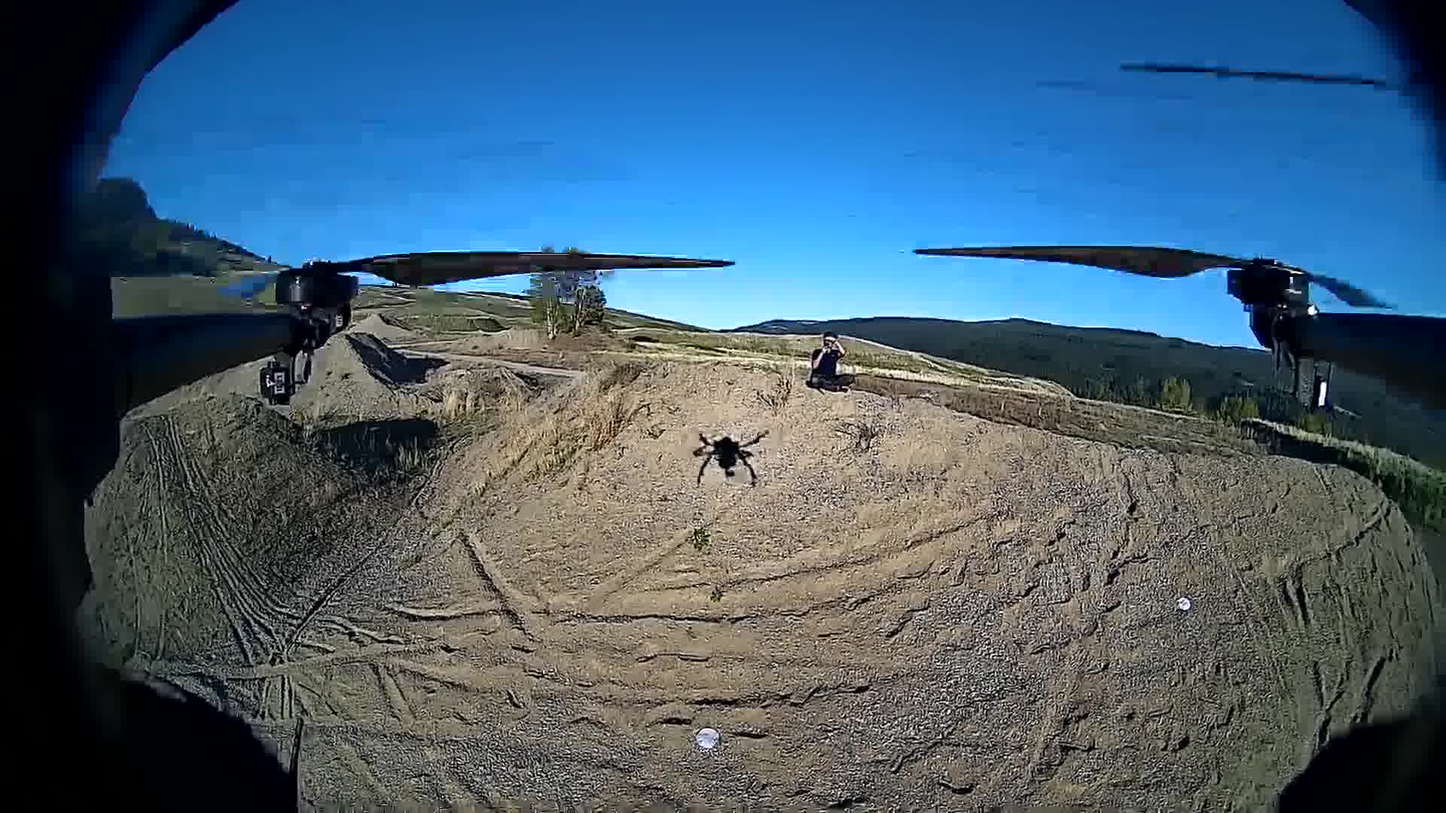Target: (696, 728, 721, 748), (1177, 596, 1192, 611)
